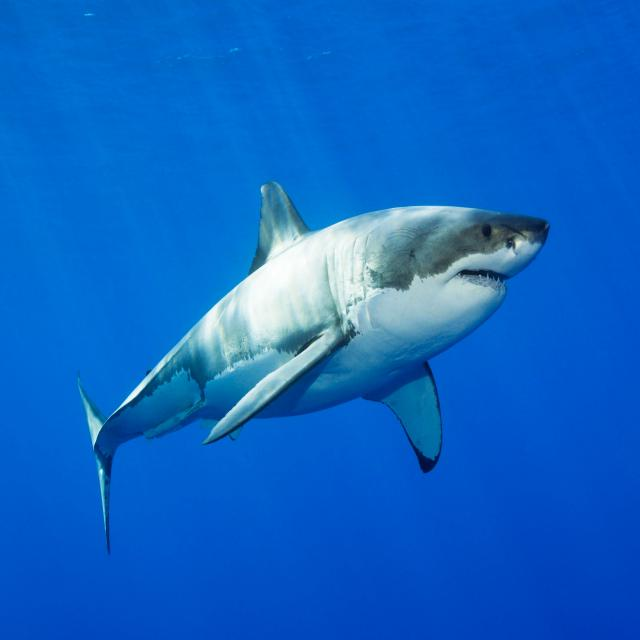shark: (81, 182, 549, 551)
